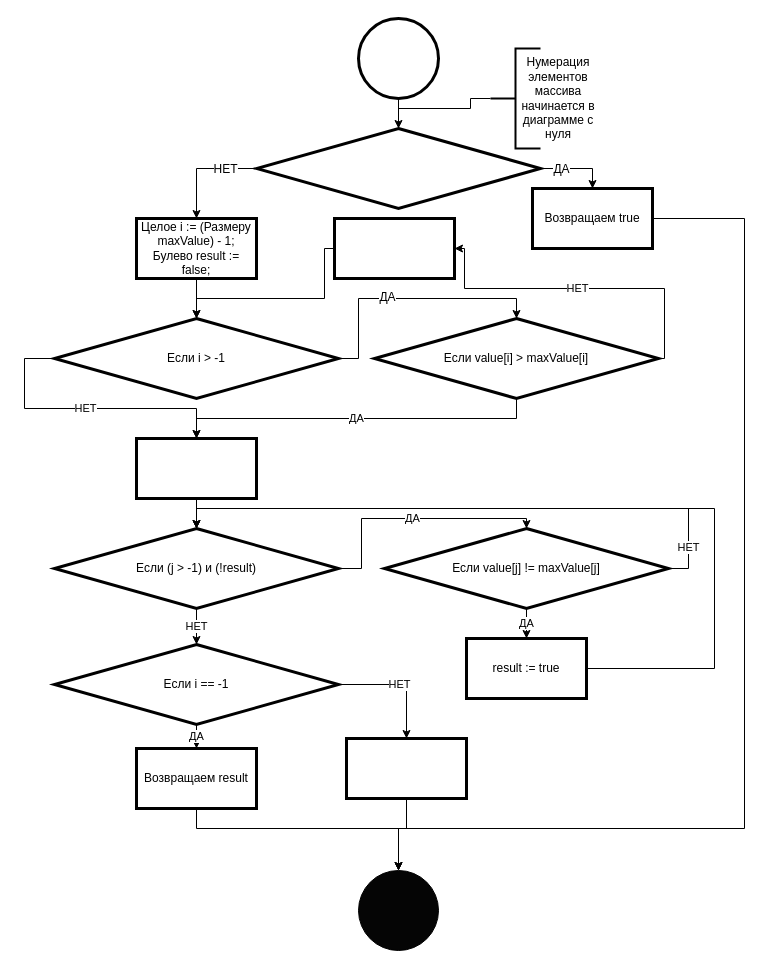
This 770x968 diagram has some shape labels left out. Here are the shapes that lost their labels. From the top down, the box of each, then its label:
(254, 126, 542, 210): Если размер value < размера maxValue
(332, 216, 456, 280): i := i - 1
(134, 436, 258, 500): Целое j := (Размеру maxValue) - 1;
(344, 736, 468, 800): Возвращаем false
